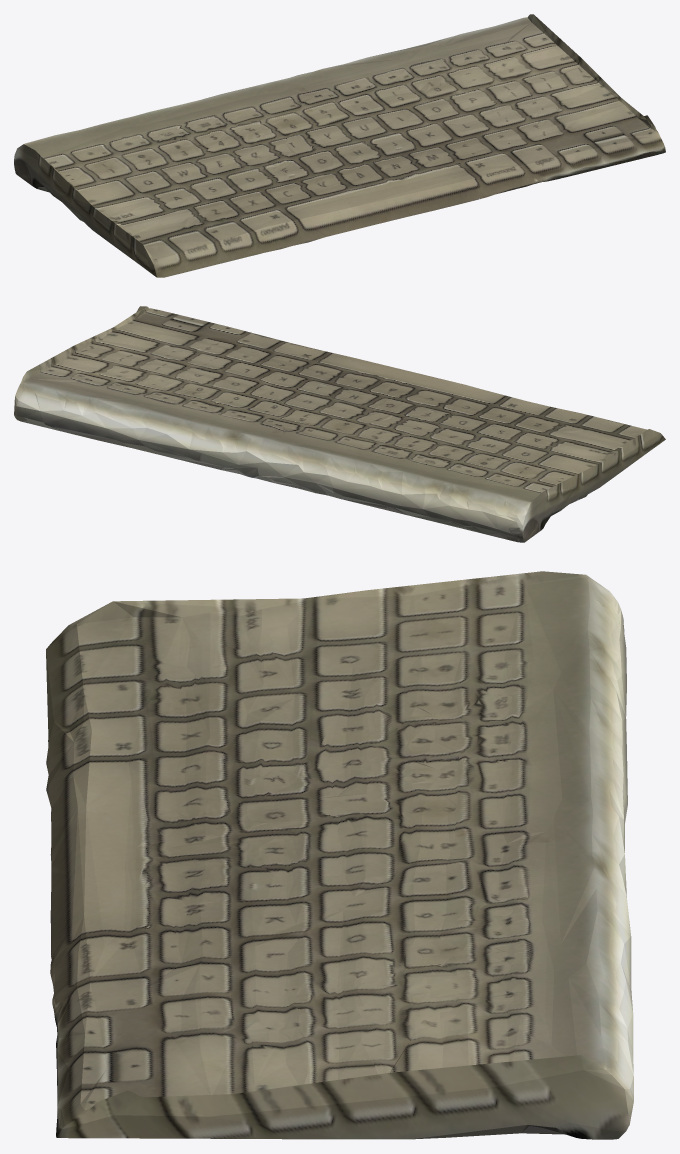
The model's file is model_New Qlone_lp_20210617_122923649.obj.
3 views of the same model, one above another, from view 1: azimuth 30°, elevation 25°; view 2: azimuth 150°, elevation 25°; view 3: azimuth 270°, elevation 25° (orthographic). The views are drawn at different scales.
Size of the model in its own units: 139 by 11.13 by 69.77.
1 material, 1 textured.
